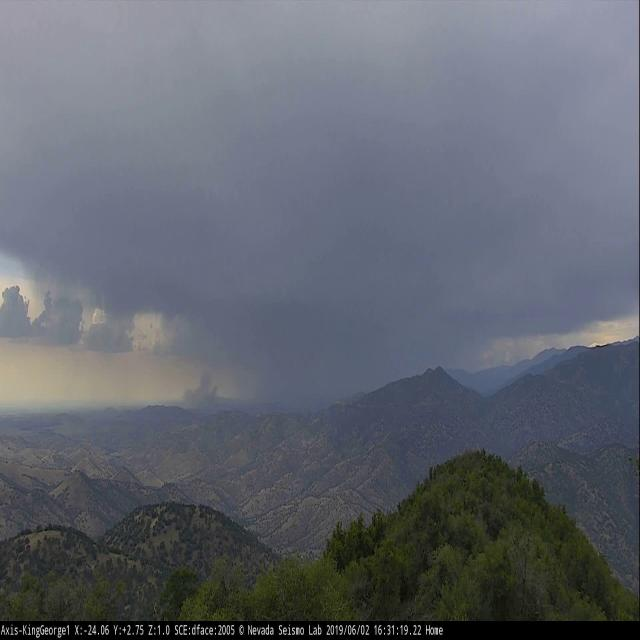smoke: (181, 370, 218, 407)
